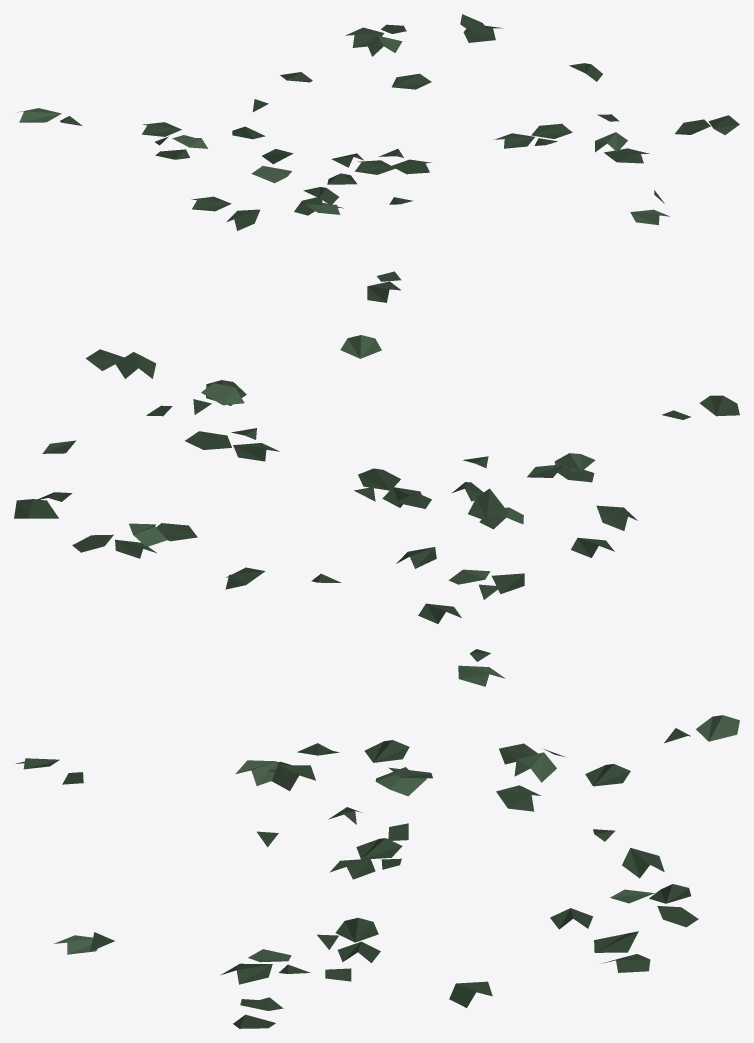
Rendered from SM_Env_GroundLeaves_01.glb.
The picture shows the model from 3 angles, top to bottom: view 1: azimuth 30°, elevation 25°; view 2: azimuth 150°, elevation 25°; view 3: azimuth 270°, elevation 25°; orthographic projection. The views are drawn at different scales.
Parts seen in each view (by area): view 1: SM_Env_GroundLeaves_01; view 2: SM_Env_GroundLeaves_01; view 3: SM_Env_GroundLeaves_01.
Boxes of the visible parts, <box> form: SM_Env_GroundLeaves_01: <box>18,14,739,302</box>; SM_Env_GroundLeaves_01: <box>14,335,739,686</box>; SM_Env_GroundLeaves_01: <box>16,715,739,1028</box>.
Bounding box in the file's own units: 0.0339 × 0.00185 × 0.0322.
